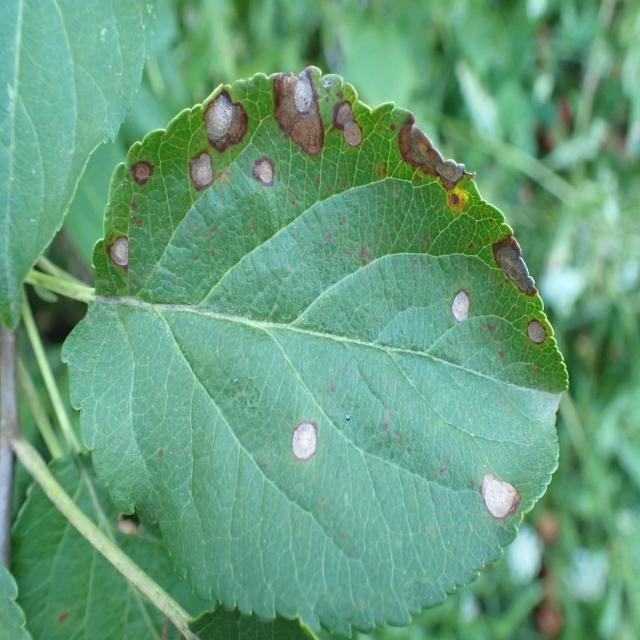Black Rot: (391, 100, 478, 223), (270, 48, 324, 167), (185, 68, 253, 156), (482, 223, 548, 300), (324, 70, 372, 160), (466, 466, 521, 540), (284, 412, 332, 493), (513, 305, 555, 387), (186, 134, 224, 214), (440, 276, 478, 342), (96, 223, 148, 270), (122, 146, 160, 199), (245, 151, 281, 206), (50, 604, 74, 634)
Rust: (430, 180, 478, 238)
scab: (124, 134, 538, 545)
